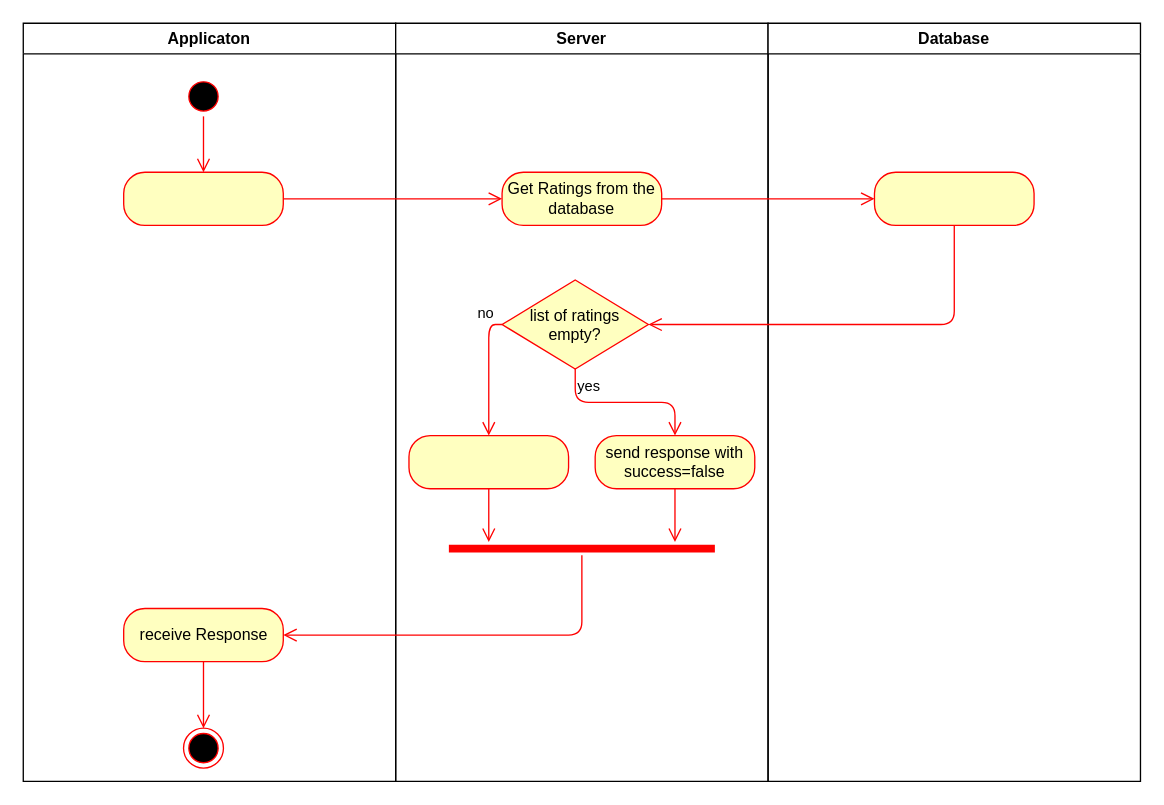
Some shapes in this 1164 by 805 pixel diagram are drawn without their labels. The centre of each missing label's shape, as x and y in pixels:
"List Ratings" goes at (953,198).
"send request for ratings" goes at (202,198).
"send response with list of ratings and success=true" goes at (488,461).
